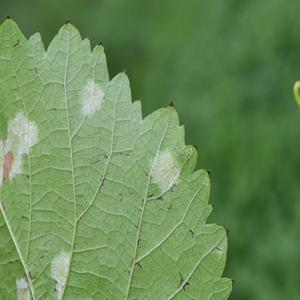Folha: (0, 15, 234, 299)
Fungo: (149, 148, 181, 194), (6, 110, 39, 154), (78, 78, 105, 118), (50, 249, 70, 299), (3, 139, 22, 183), (16, 276, 32, 299), (3, 151, 13, 181), (177, 272, 189, 292), (12, 38, 19, 48), (167, 100, 175, 108), (223, 230, 230, 239), (205, 170, 212, 178), (189, 228, 194, 238), (193, 142, 198, 152), (179, 121, 186, 128), (65, 18, 71, 25), (231, 277, 235, 287), (5, 16, 11, 21)
